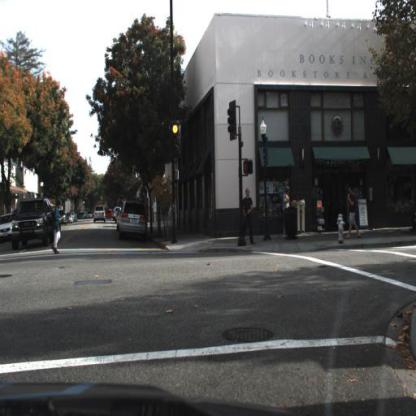car: (8, 197, 56, 250), (119, 197, 154, 243), (1, 208, 16, 241), (2, 214, 16, 247), (93, 201, 108, 225), (57, 211, 68, 227), (95, 208, 106, 224)
pedestrian: (49, 196, 65, 259), (346, 180, 360, 242), (242, 187, 256, 247), (280, 185, 295, 239)
trafficLight-Red: (171, 121, 180, 157)
